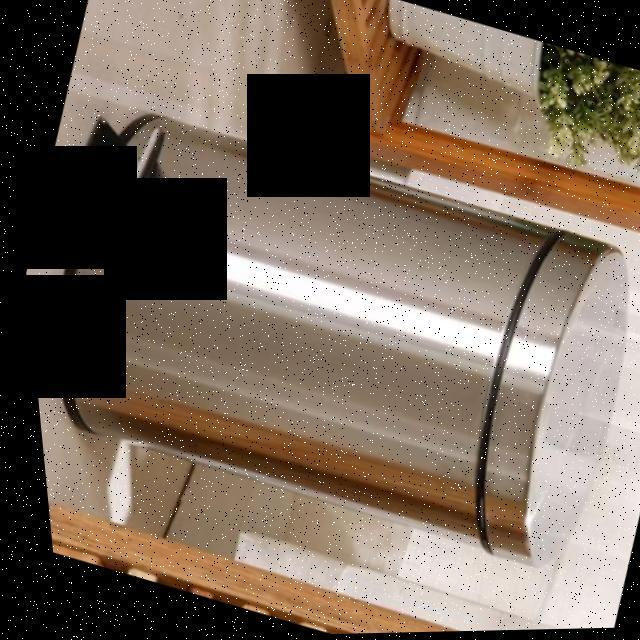bin: (5, 52, 640, 613)
